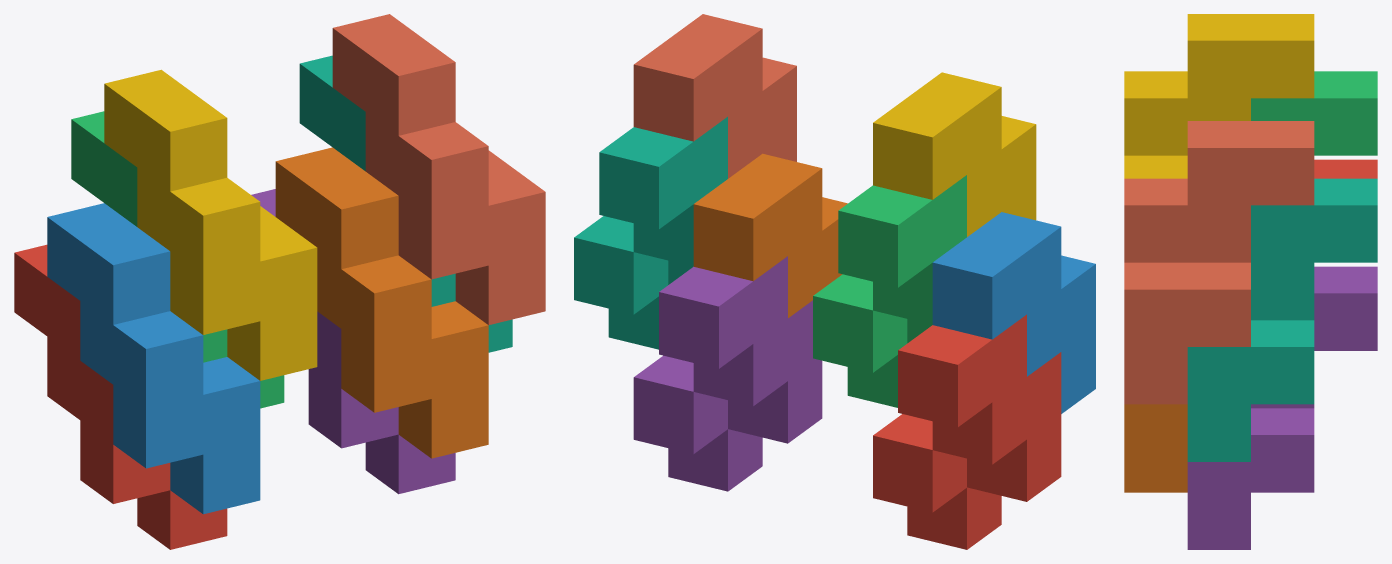
File: tiling.obj
3 renders of one model, left to right at view 1: azimuth 30°, elevation 25°; view 2: azimuth 150°, elevation 25°; view 3: azimuth 270°, elevation 25°, orthographic. The views are drawn at different scales.
Visible parts, largest first — view 1: copy_1_domain_8, copy_1_domain_4, copy_1_domain_2, copy_1_domain_6, copy_1_domain_1, copy_1_domain_5, copy_1_domain_3, copy_1_domain_7; view 2: copy_1_domain_1, copy_1_domain_5, copy_1_domain_3, copy_1_domain_7, copy_1_domain_2, copy_1_domain_4, copy_1_domain_8, copy_1_domain_6; view 3: copy_1_domain_8, copy_1_domain_7, copy_1_domain_4, copy_1_domain_5, copy_1_domain_3, copy_1_domain_6, copy_1_domain_1.
Boxes of the visible parts, bbox=[...] form: copy_1_domain_8: bbox=[332, 14, 545, 325]; copy_1_domain_4: bbox=[104, 69, 317, 380]; copy_1_domain_2: bbox=[47, 203, 260, 514]; copy_1_domain_6: bbox=[275, 147, 488, 458]; copy_1_domain_1: bbox=[14, 244, 227, 549]; copy_1_domain_5: bbox=[251, 189, 455, 494]; copy_1_domain_3: bbox=[71, 111, 284, 408]; copy_1_domain_7: bbox=[299, 55, 512, 352]; copy_1_domain_1: bbox=[873, 314, 1061, 549]; copy_1_domain_5: bbox=[633, 256, 822, 491]; copy_1_domain_3: bbox=[813, 175, 966, 407]; copy_1_domain_7: bbox=[574, 116, 727, 349]; copy_1_domain_2: bbox=[932, 212, 1095, 413]; copy_1_domain_4: bbox=[873, 72, 1036, 236]; copy_1_domain_8: bbox=[633, 14, 796, 178]; copy_1_domain_6: bbox=[693, 153, 847, 317]; copy_1_domain_8: bbox=[1124, 121, 1314, 404]; copy_1_domain_7: bbox=[1187, 178, 1377, 461]; copy_1_domain_4: bbox=[1124, 14, 1314, 178]; copy_1_domain_5: bbox=[1187, 266, 1377, 549]; copy_1_domain_3: bbox=[1251, 71, 1377, 155]; copy_1_domain_6: bbox=[1124, 404, 1187, 492]; copy_1_domain_1: bbox=[1314, 159, 1377, 178].
Size of the model in its own units: 7 by 7 by 4.
